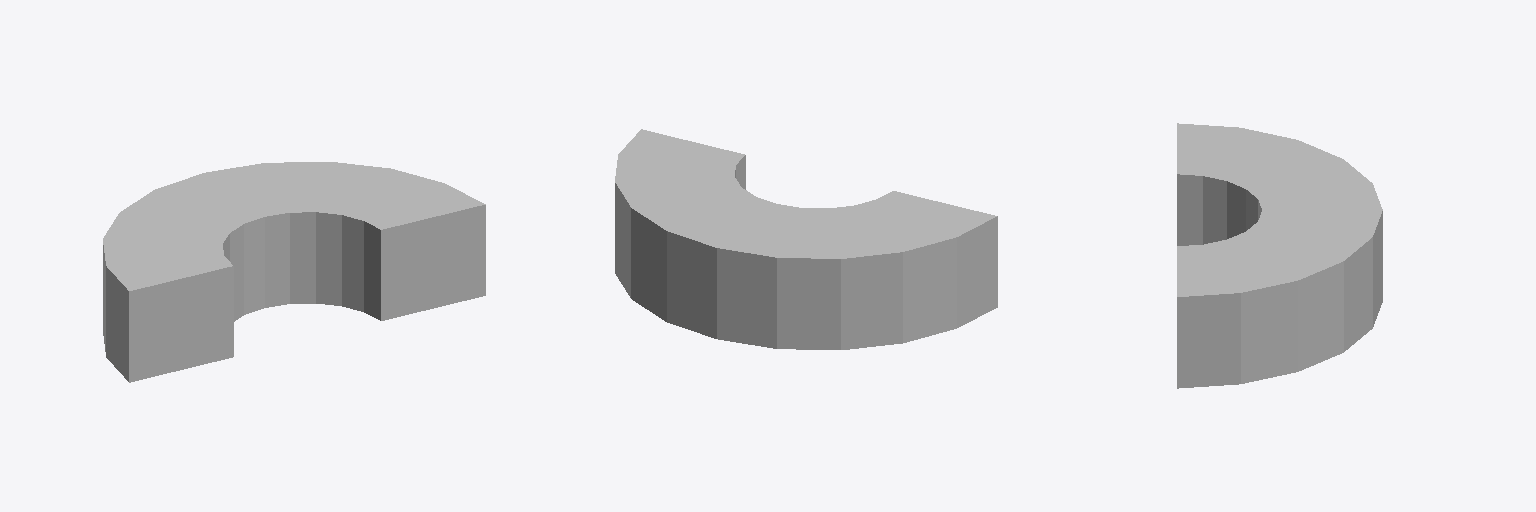
File: Wood_Block_Arch.obj
3 views of the same model, side by side, from view 1: azimuth 30°, elevation 25°; view 2: azimuth 150°, elevation 25°; view 3: azimuth 270°, elevation 25° (orthographic).
Visible parts, largest first — view 1: pTorus1; view 2: pTorus1; view 3: pTorus1.
Boxes of the visible parts, <box> form: pTorus1: <box>103,162,485,382</box>; pTorus1: <box>615,129,997,349</box>; pTorus1: <box>1177,123,1382,388</box>.
Bounding box in the file's own units: 88.84 × 21.76 × 44.42.